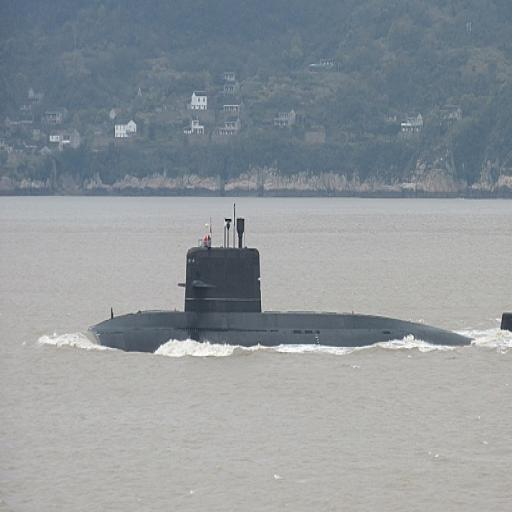submarine: (88, 211, 512, 355)
